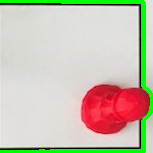Red Pawn: (78, 73, 150, 141)
